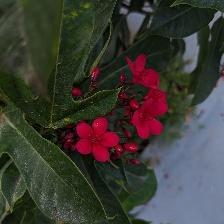jatropha: (74, 115, 122, 165)
